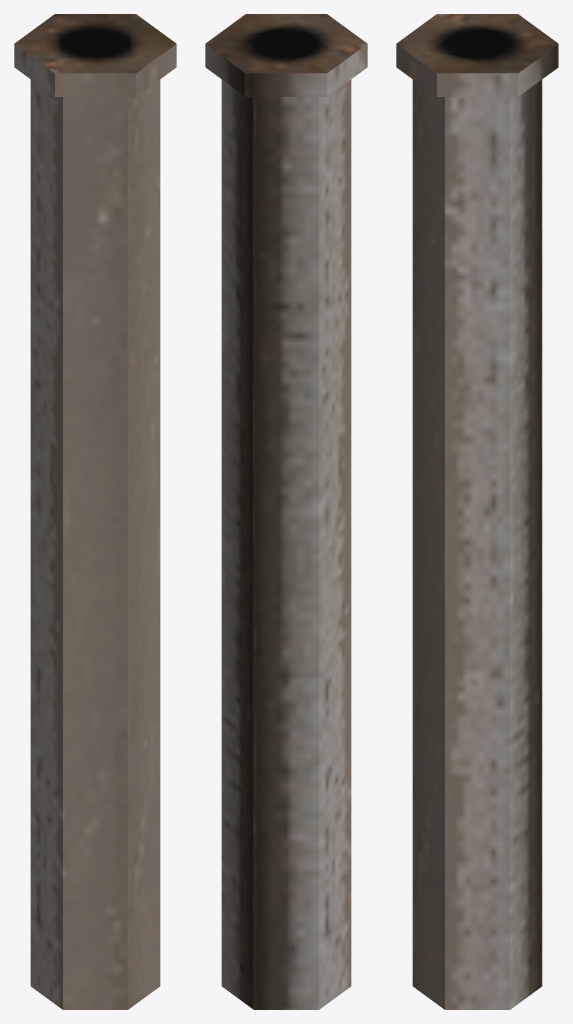
File: Pipe01StraightShort.obj
3 renders of one model, left to right at view 1: azimuth 30°, elevation 25°; view 2: azimuth 150°, elevation 25°; view 3: azimuth 270°, elevation 25°, orthographic.
Parts seen in each view (by area): view 1: Pipe01Straight; view 2: Pipe01Straight; view 3: Pipe01Straight.
Boxes of the visible parts, left/top/right/bottom form: Pipe01Straight: left=14, top=14, right=176, bottom=1009; Pipe01Straight: left=205, top=14, right=367, bottom=1009; Pipe01Straight: left=396, top=14, right=558, bottom=1009.
Bounding box in the file's own units: 0.5413 × 4 × 0.625.
